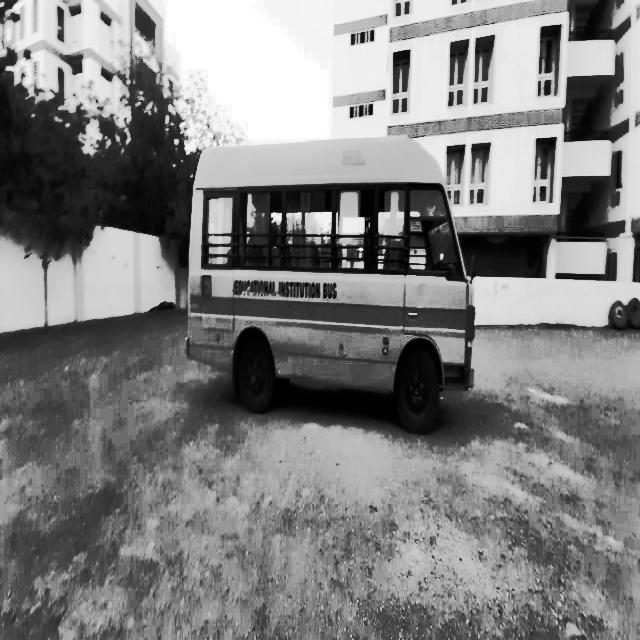Bus: (175, 125, 486, 448)
